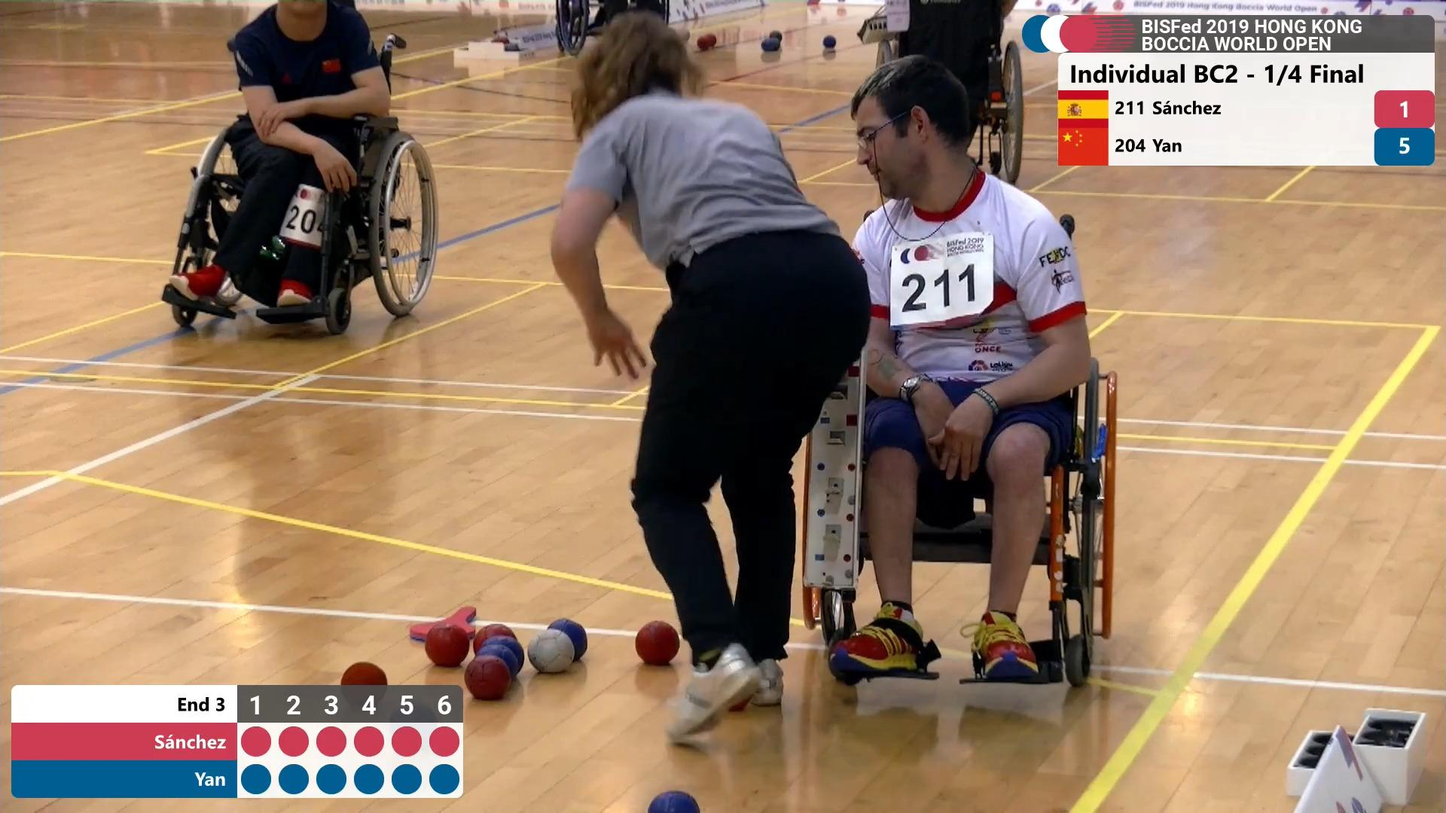blue_ball: (648, 790, 700, 813), (555, 619, 587, 655)
red_ball: (633, 621, 681, 664), (426, 622, 469, 665), (468, 656, 510, 696), (342, 662, 387, 688)
white_ball: (529, 631, 574, 674)
